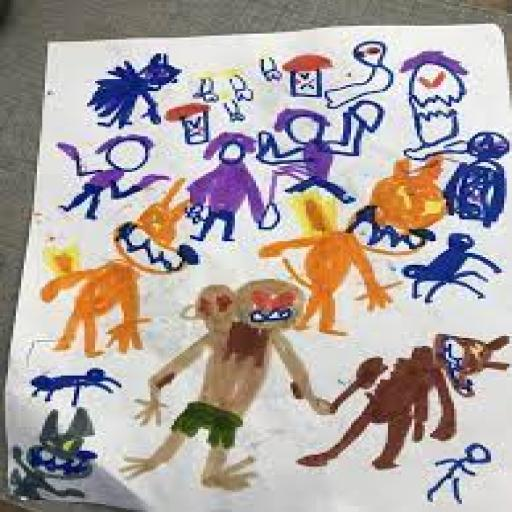person: (107, 270, 320, 502), (257, 102, 389, 212), (50, 129, 171, 226), (184, 134, 264, 242), (439, 126, 512, 237), (414, 439, 512, 510)
